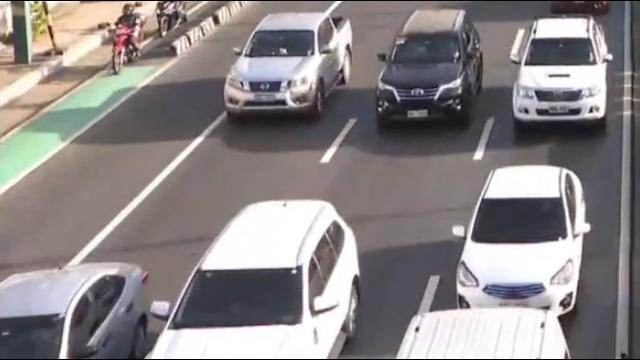car: (148, 199, 367, 360), (449, 164, 592, 316), (0, 261, 151, 360), (376, 10, 483, 132), (512, 20, 614, 136), (387, 308, 573, 360)
motorcycle: (110, 0, 148, 75), (156, 0, 186, 37)
pickup-truck: (223, 9, 353, 126)
